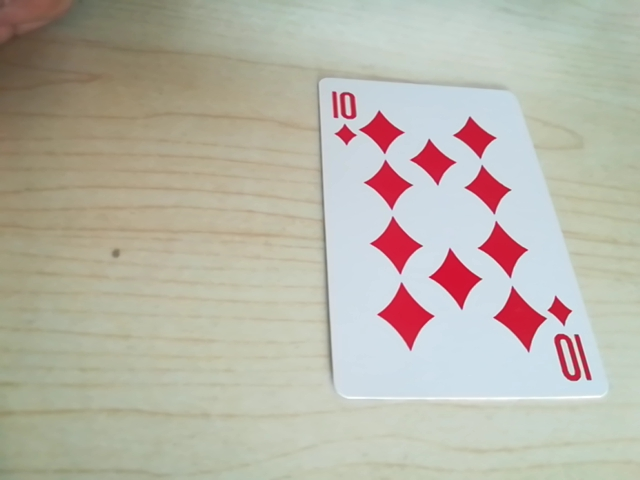fk 10: (551, 310, 591, 387), (326, 78, 370, 145)
